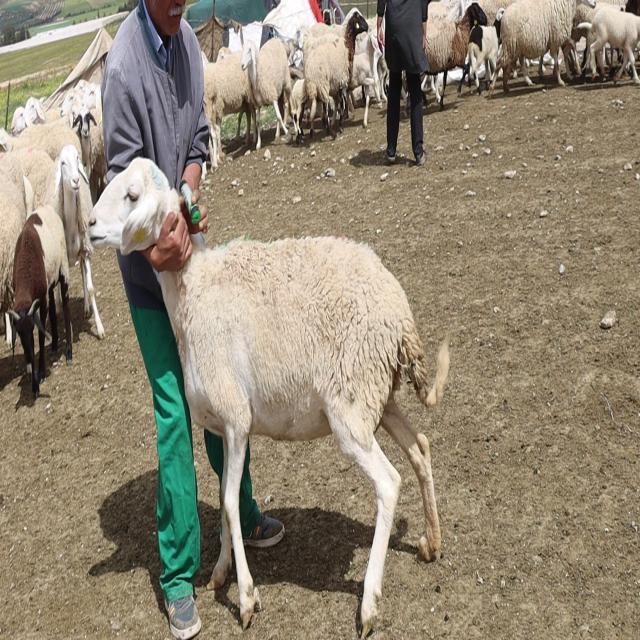Score_3: (159, 236, 449, 639)
